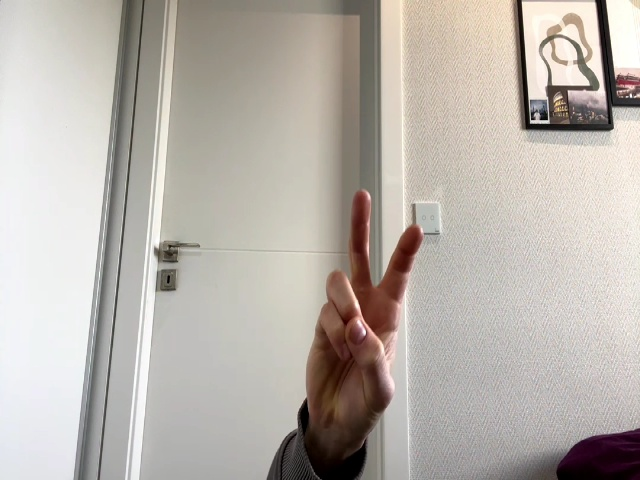H: (306, 190, 424, 426)
